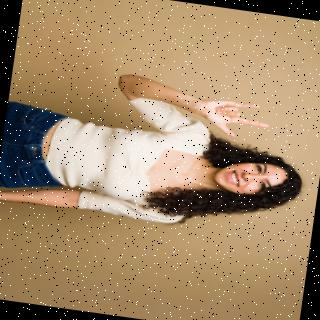I Love You: (188, 88, 282, 148)
